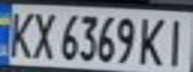3: (75, 11, 100, 62)
6: (54, 10, 81, 62), (93, 12, 118, 64)
9: (115, 12, 142, 64)
I: (160, 13, 193, 69)
K: (136, 14, 172, 68), (3, 7, 36, 60)
X: (27, 8, 57, 61)
